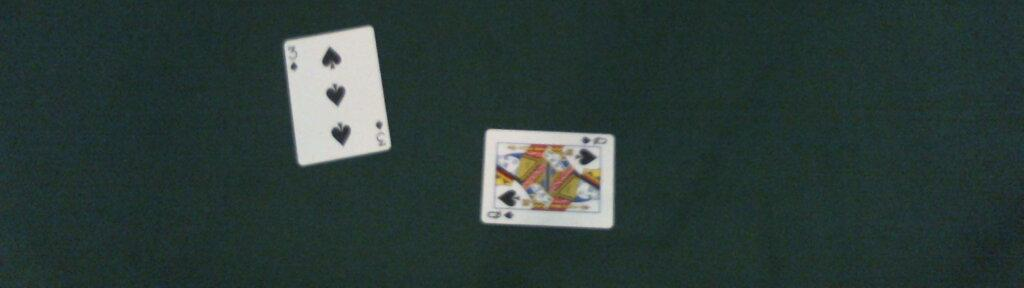queen: (478, 128, 616, 230)
three: (283, 24, 392, 167)
